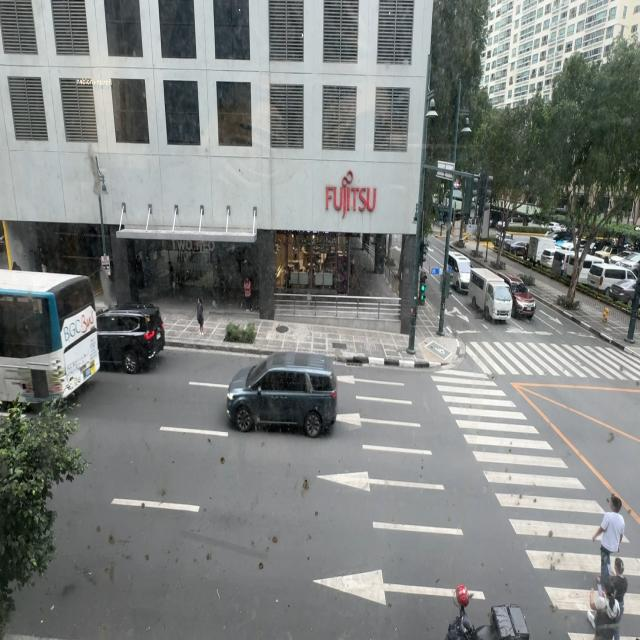crossing: (585, 562, 622, 640), (592, 500, 624, 582), (610, 543, 631, 640), (602, 557, 629, 621)
